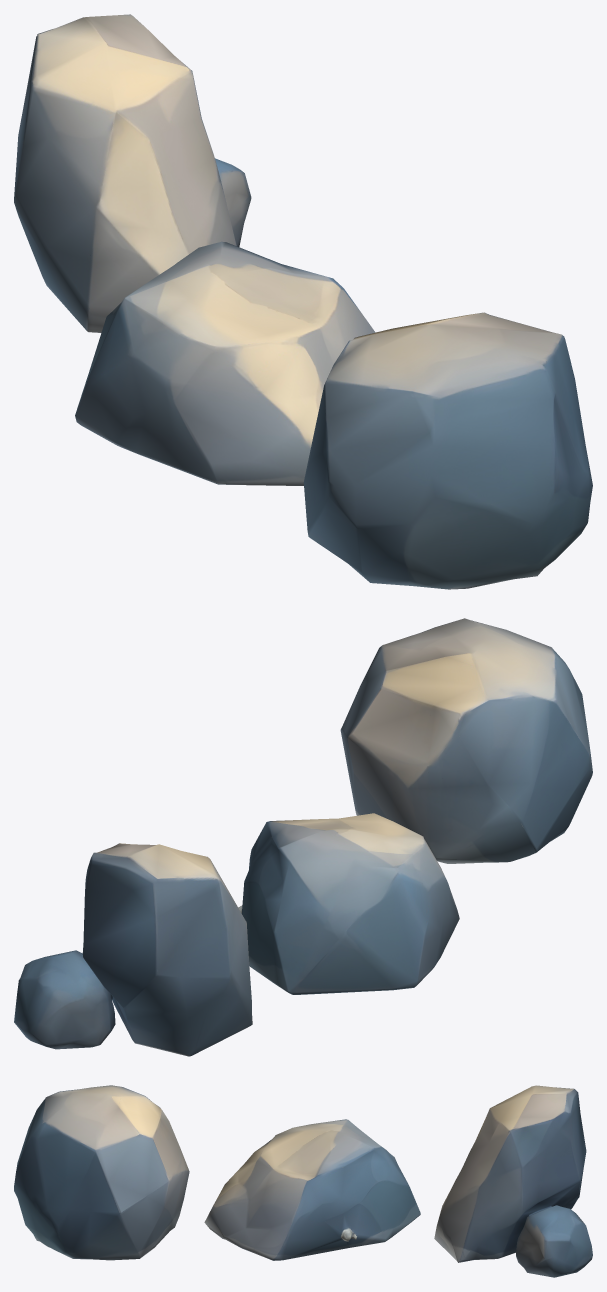
3 views of the same model, one above another, from view 1: azimuth 30°, elevation 25°; view 2: azimuth 150°, elevation 25°; view 3: azimuth 270°, elevation 25° (orthographic). The views are drawn at different scales.
Visible parts, largest first — view 1: tripo_node_7724edd9-67c2-4f31-8e1e-0b241da6b80a; view 2: tripo_node_7724edd9-67c2-4f31-8e1e-0b241da6b80a; view 3: tripo_node_7724edd9-67c2-4f31-8e1e-0b241da6b80a.
Part boxes in pixels (box(x1,y1,x2,y2)): tripo_node_7724edd9-67c2-4f31-8e1e-0b241da6b80a: box(14, 14, 592, 589); tripo_node_7724edd9-67c2-4f31-8e1e-0b241da6b80a: box(14, 618, 592, 1056); tripo_node_7724edd9-67c2-4f31-8e1e-0b241da6b80a: box(14, 1085, 592, 1277).
Size of the model in its own units: 0.3933 by 0.2798 by 1.
1 material, 1 textured.
